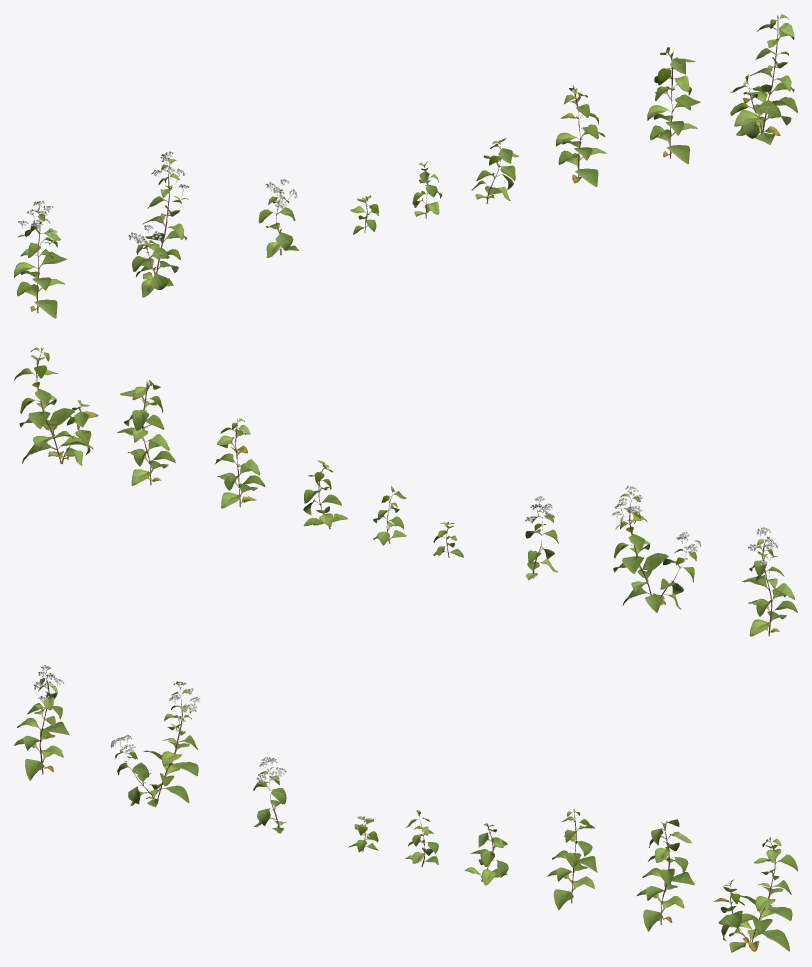
The model's file is shrub_01_1k_md.glb.
The picture shows the model from 3 angles, top to bottom: view 1: azimuth 30°, elevation 25°; view 2: azimuth 150°, elevation 25°; view 3: azimuth 330°, elevation 25°; orthographic projection. The views are drawn at different scales.
Parts seen in each view (by area): view 1: shrub_01_a; view 2: shrub_01_a; view 3: shrub_01_a.
Part boxes in pixels (x1=…): shrub_01_a: x1=14, y1=14, x2=797, y2=318; shrub_01_a: x1=14, y1=347, x2=797, y2=636; shrub_01_a: x1=14, y1=665, x2=797, y2=952.
Size of the model in its own units: 2.59 by 0.3955 by 0.218.
1 material, 1 textured.
